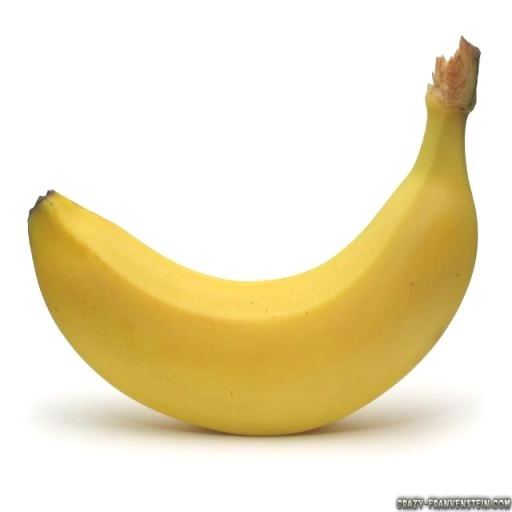fruit: (29, 39, 479, 435)
